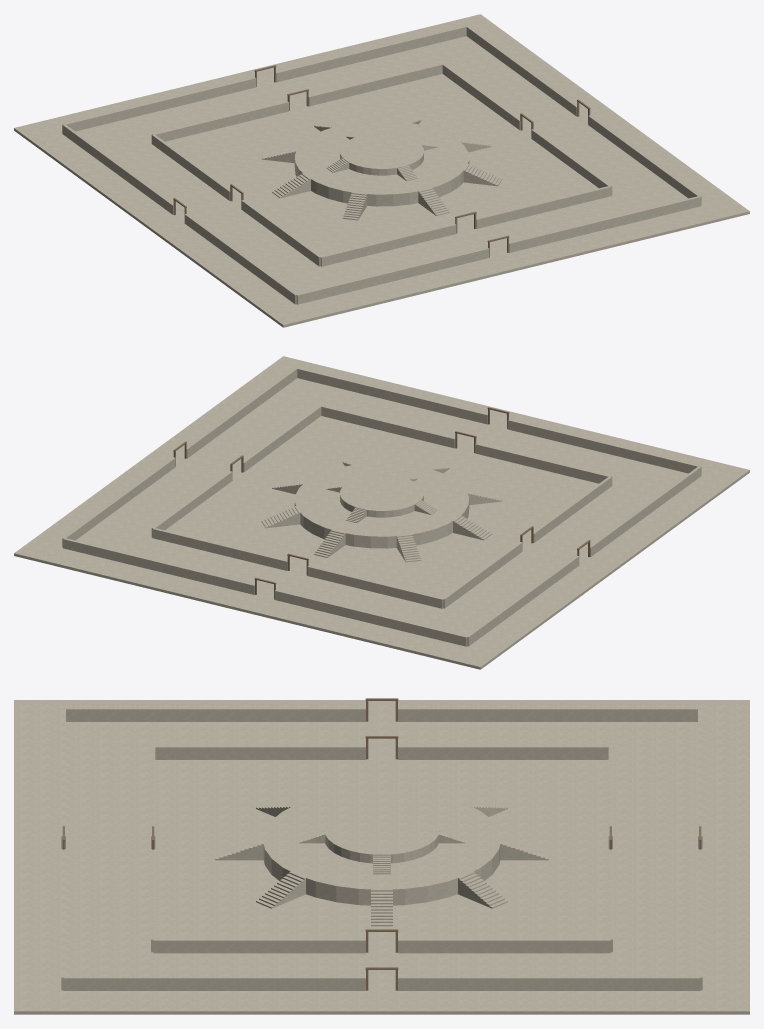
The model's file is south-altar-B-LOD1.glb.
3 renders of one model, top to bottom at view 1: azimuth 30°, elevation 25°; view 2: azimuth 150°, elevation 25°; view 3: azimuth 270°, elevation 25°, orthographic. The views are drawn at different scales.
Visible parts, largest first — view 1: B_presentation_ground, B_outer_earth_enclosure, B_lower_platform_with_stairs, B_inner_earth_enclosure, B_upper_platform_with_stairs; view 2: B_presentation_ground, B_outer_earth_enclosure, B_lower_platform_with_stairs, B_inner_earth_enclosure, B_upper_platform_with_stairs; view 3: B_presentation_ground, B_lower_platform_with_stairs, B_outer_earth_enclosure, B_inner_earth_enclosure, B_upper_platform_with_stairs.
Boxes of the visible parts, left/top/right/bottom form: B_presentation_ground: left=14, top=14, right=749, bottom=327; B_outer_earth_enclosure: left=62, top=25, right=701, bottom=304; B_lower_platform_with_stairs: left=261, top=118, right=502, bottom=220; B_inner_earth_enclosure: left=151, top=63, right=612, bottom=266; B_upper_platform_with_stairs: left=326, top=133, right=437, bottom=181; B_presentation_ground: left=14, top=356, right=749, bottom=669; B_outer_earth_enclosure: left=62, top=367, right=701, bottom=646; B_lower_platform_with_stairs: left=261, top=460, right=502, bottom=562; B_inner_earth_enclosure: left=151, top=405, right=612, bottom=608; B_upper_platform_with_stairs: left=326, top=475, right=437, bottom=523; B_presentation_ground: left=14, top=700, right=749, bottom=1014; B_lower_platform_with_stairs: left=215, top=783, right=548, bottom=926; B_outer_earth_enclosure: left=61, top=707, right=702, bottom=990; B_inner_earth_enclosure: left=151, top=745, right=612, bottom=953; B_upper_platform_with_stairs: left=299, top=803, right=464, bottom=874.
Bounding box in the file's own units: 74 × 3.2 × 74.
Materials: 2 (2 with a texture image).
